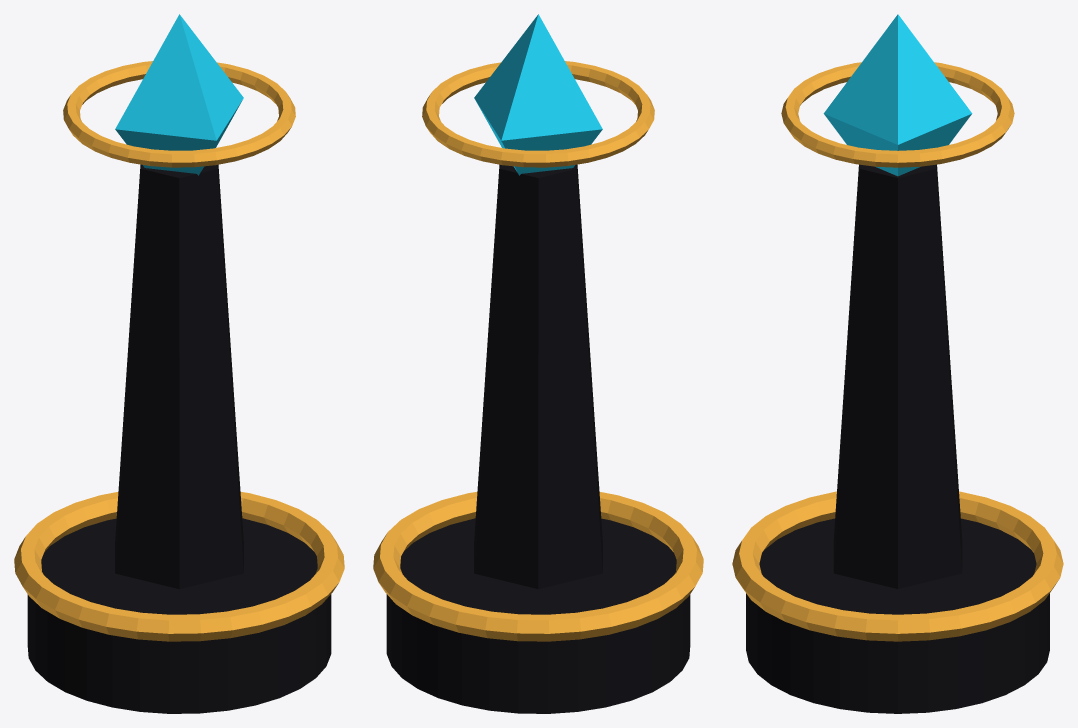
The model's file is vmt_thread_anchor_pylon.obj.
3 renders of one model, left to right at view 1: azimuth 30°, elevation 25°; view 2: azimuth 150°, elevation 25°; view 3: azimuth 270°, elevation 25°, orthographic.
Parts seen in each view (by area): view 1: VMT_ThreadAnchorPylon; view 2: VMT_ThreadAnchorPylon; view 3: VMT_ThreadAnchorPylon.
Boxes of the visible parts, x1,y1,x2,y2 form: VMT_ThreadAnchorPylon: [14, 14, 344, 713]; VMT_ThreadAnchorPylon: [373, 14, 703, 713]; VMT_ThreadAnchorPylon: [732, 14, 1063, 713].
Bounding box in the file's own units: 0.98 × 2.08 × 0.98.
